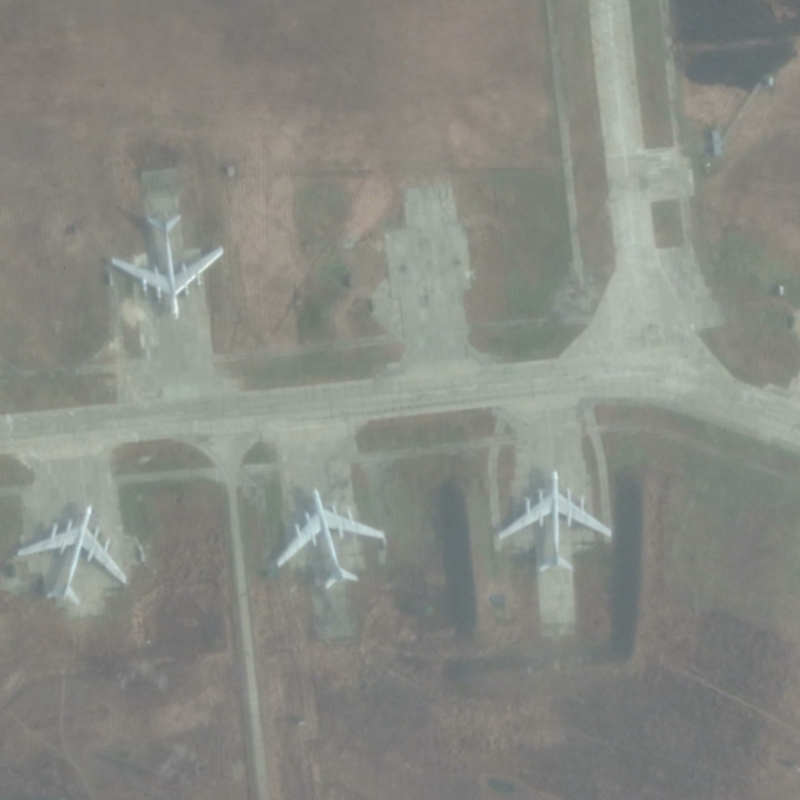A17: (110, 212, 225, 321), (496, 468, 613, 574), (14, 502, 129, 608), (274, 486, 386, 592)
